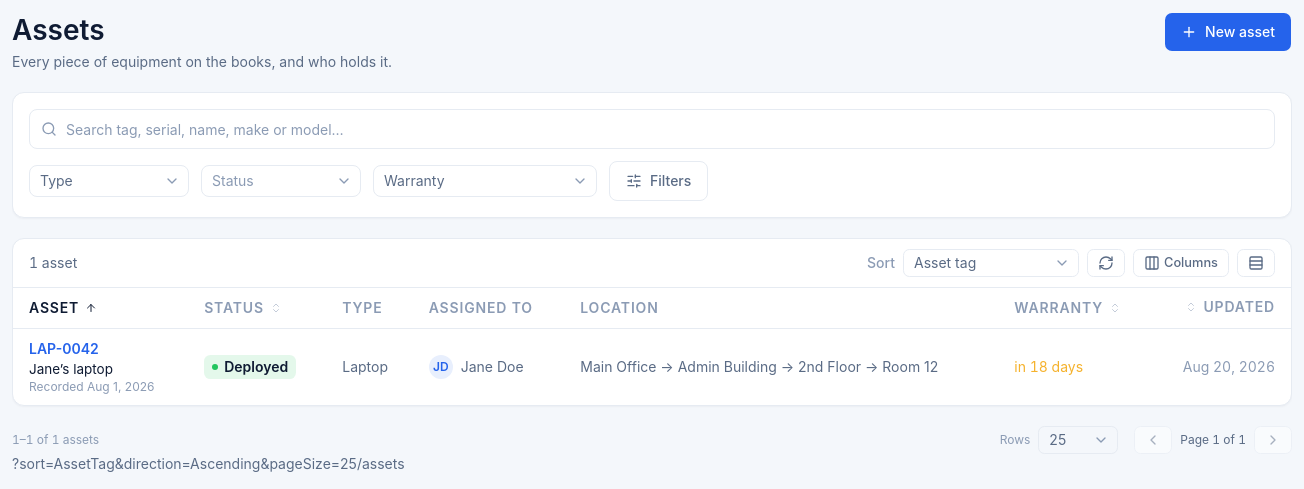
Scenario: AssetsPage › writes a status filter into the address as a code, not an id
Check: the button "LAP-0042" is shown, box [29, 338, 99, 358]
Click the dropdown labelled "Status": (281, 181) [201, 165, 361, 197]
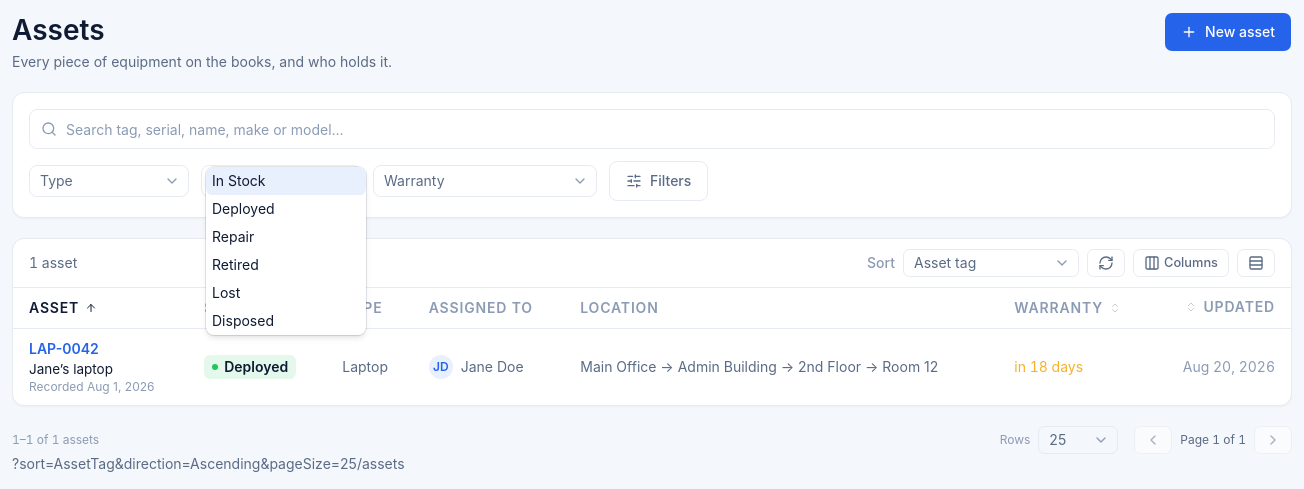
Click the option "Repair": (233, 236) [212, 228, 254, 245]
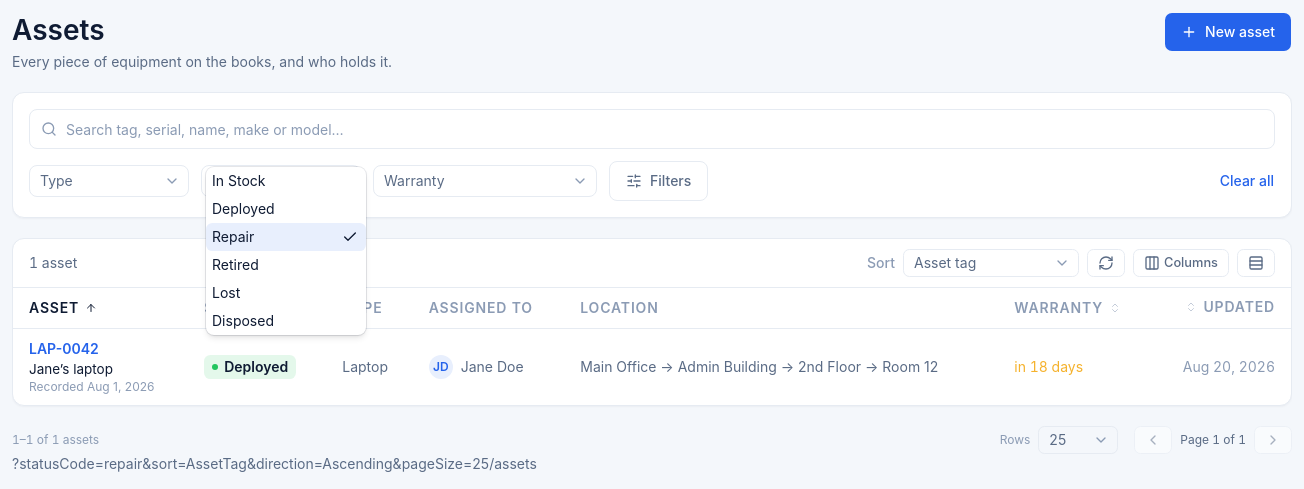
Check: the text with test id "address" shows "statusCode=repair", box [12, 454, 489, 472]
